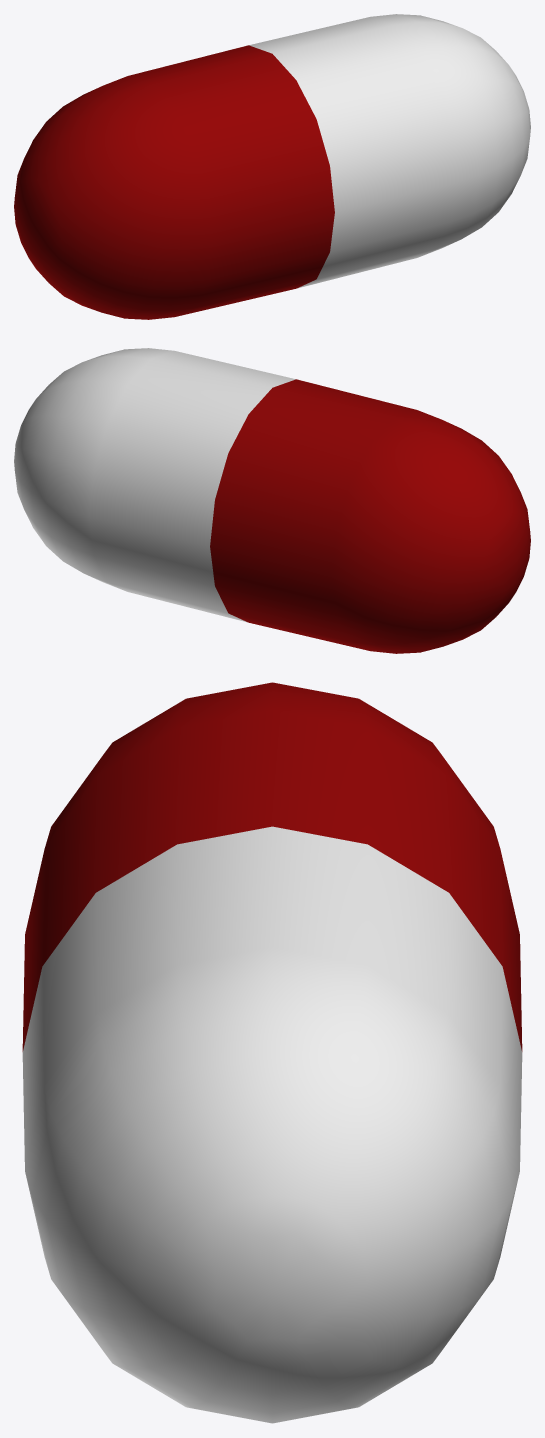
Rendered from PillLong.fbx.
3 views of the same model, one above another, from view 1: azimuth 30°, elevation 25°; view 2: azimuth 150°, elevation 25°; view 3: azimuth 270°, elevation 25° (orthographic). The views are drawn at different scales.
Parts seen in each view (by area): view 1: Pill; view 2: Pill; view 3: Pill.
Boxes of the visible parts, x1,y1,x2,y2 form: Pill: (14,14,530,319); Pill: (14,348,530,653); Pill: (22,682,522,1423).
Bounding box in the file's own units: 0.1735 × 0.0768 × 0.0768.
